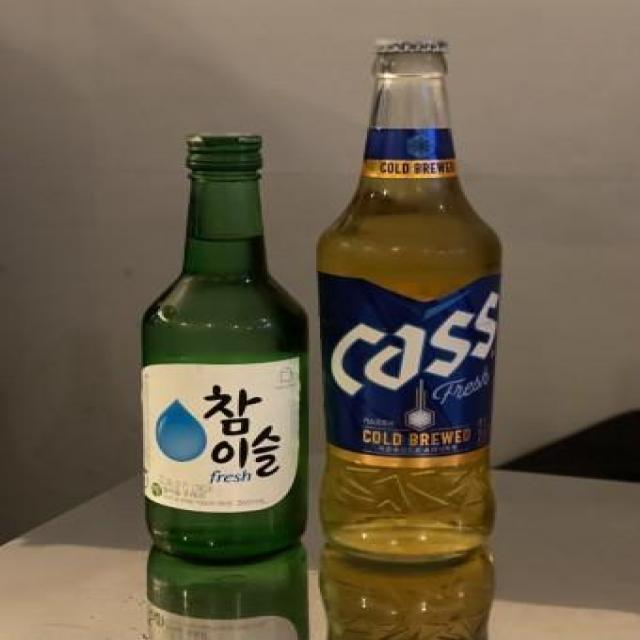beer-bottle: (314, 31, 510, 568)
soju-bottle: (134, 122, 316, 564)
